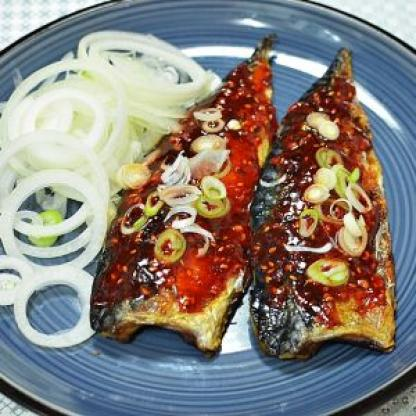Peixe: (96, 15, 283, 344), (246, 42, 388, 357)
